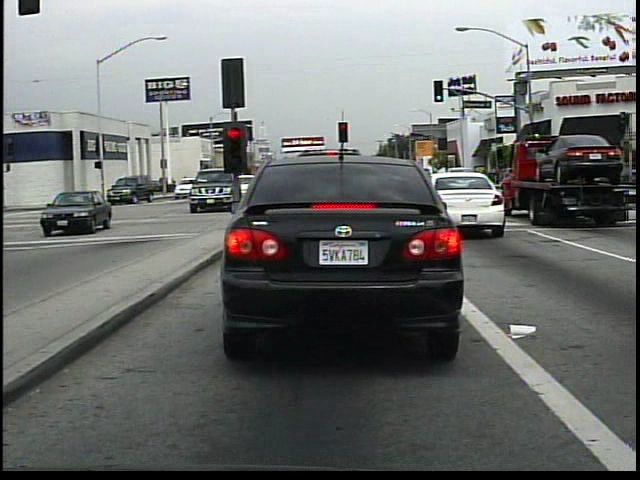person: (182, 175, 204, 200)
